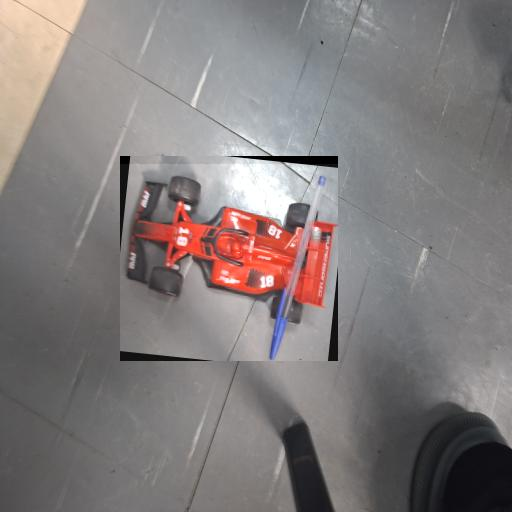carro: (120, 165, 338, 361)
